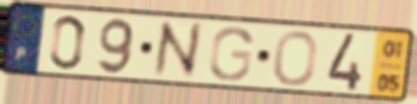0: (48, 14, 87, 71)
4: (326, 31, 364, 93)
9: (96, 16, 136, 76)
G: (206, 25, 255, 83)
N: (151, 19, 204, 80)
O: (271, 29, 320, 88)
